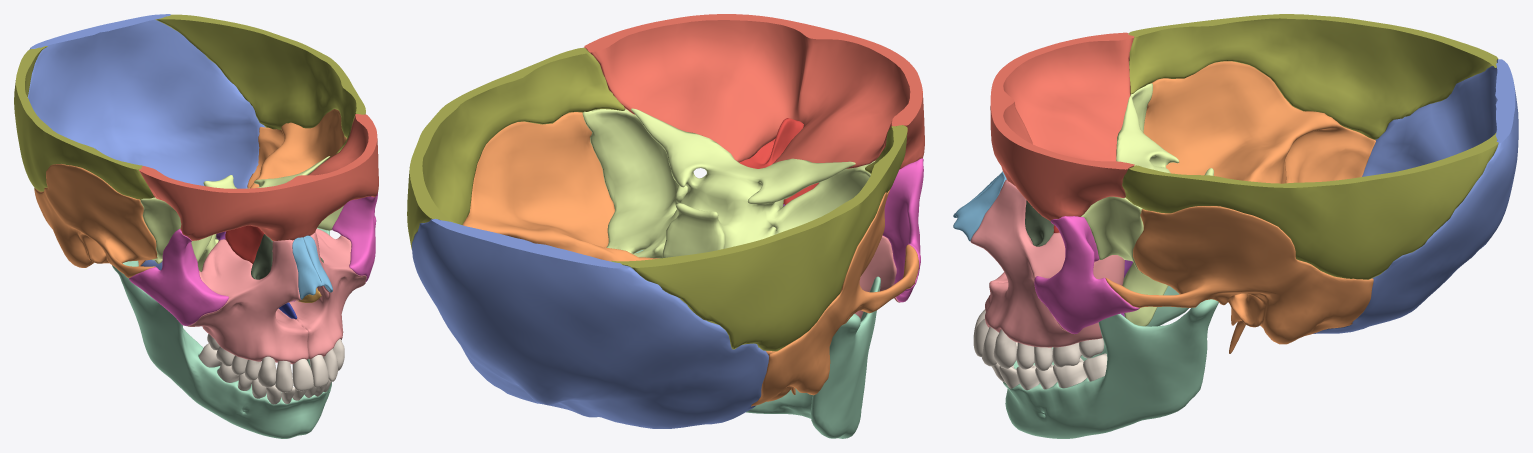
File: skull.glb
The picture shows the model from 3 angles, left to right: view 1: azimuth 30°, elevation 25°; view 2: azimuth 150°, elevation 25°; view 3: azimuth 270°, elevation 25°; orthographic projection. The views are drawn at different scales.
Visible parts, largest first — view 1: Occipital bone, Maxilla bone.r, Temporal bones, Frontal bone, Parietal bone.l, Mandible bone, Zygomatic bones, Parietal bone.r, Sphenoid bone, Nasal bone, Upper medial incisors, Ethmoid Bone (+3 smaller); view 2: Occipital bone, Frontal bone, Sphenoid bone, Temporal bones, Parietal bone.r, Parietal bone.l, Mandible bone, Zygomatic bones, Ethmoid Bone, Maxilla bone.r; view 3: Temporal bones, Parietal bone.r, Parietal bone.l, Frontal bone, Occipital bone, Mandible bone, Maxilla bone.r, Sphenoid bone, Zygomatic bones, Nasal bone, Lacrimal bones, Upper canines (+2 smaller).
Part boxes in pixels (x1,y1,x2,y2): Occipital bone: [27, 14, 265, 270]; Maxilla bone.r: [186, 228, 366, 364]; Temporal bones: [34, 109, 346, 277]; Frontal bone: [139, 114, 378, 240]; Parietal bone.l: [155, 14, 365, 153]; Mandible bone: [112, 228, 331, 438]; Zygomatic bones: [129, 193, 377, 325]; Parietal bone.r: [14, 46, 154, 199]; Sphenoid bone: [140, 156, 343, 271]; Nasal bone: [292, 235, 332, 299]; Upper medial incisors: [292, 355, 328, 391]; Ethmoid Bone: [225, 225, 264, 263]; Occipital bone: [411, 218, 768, 428]; Frontal bone: [584, 14, 924, 168]; Sphenoid bone: [582, 108, 875, 258]; Temporal bones: [462, 112, 918, 406]; Parietal bone.r: [611, 125, 907, 351]; Parietal bone.l: [407, 47, 625, 249]; Mandible bone: [635, 250, 880, 438]; Zygomatic bones: [882, 158, 923, 302]; Ethmoid Bone: [739, 118, 818, 204]; Maxilla bone.r: [855, 235, 900, 318]; Temporal bones: [1105, 61, 1375, 353]; Parietal bone.r: [1128, 14, 1498, 139]; Parietal bone.l: [1122, 133, 1498, 279]; Frontal bone: [990, 32, 1134, 220]; Occipital bone: [1313, 59, 1518, 333]; Mandible bone: [1003, 286, 1218, 438]; Maxilla bone.r: [970, 179, 1124, 347]; Sphenoid bone: [1081, 83, 1213, 326]; Zygomatic bones: [1034, 216, 1139, 333]; Nasal bone: [953, 171, 1006, 241]; Lacrimal bones: [1025, 200, 1053, 246]; Upper canines: [993, 329, 1016, 368].
Size of the model in its own units: 0.1485 by 0.1286 by 0.2038.
